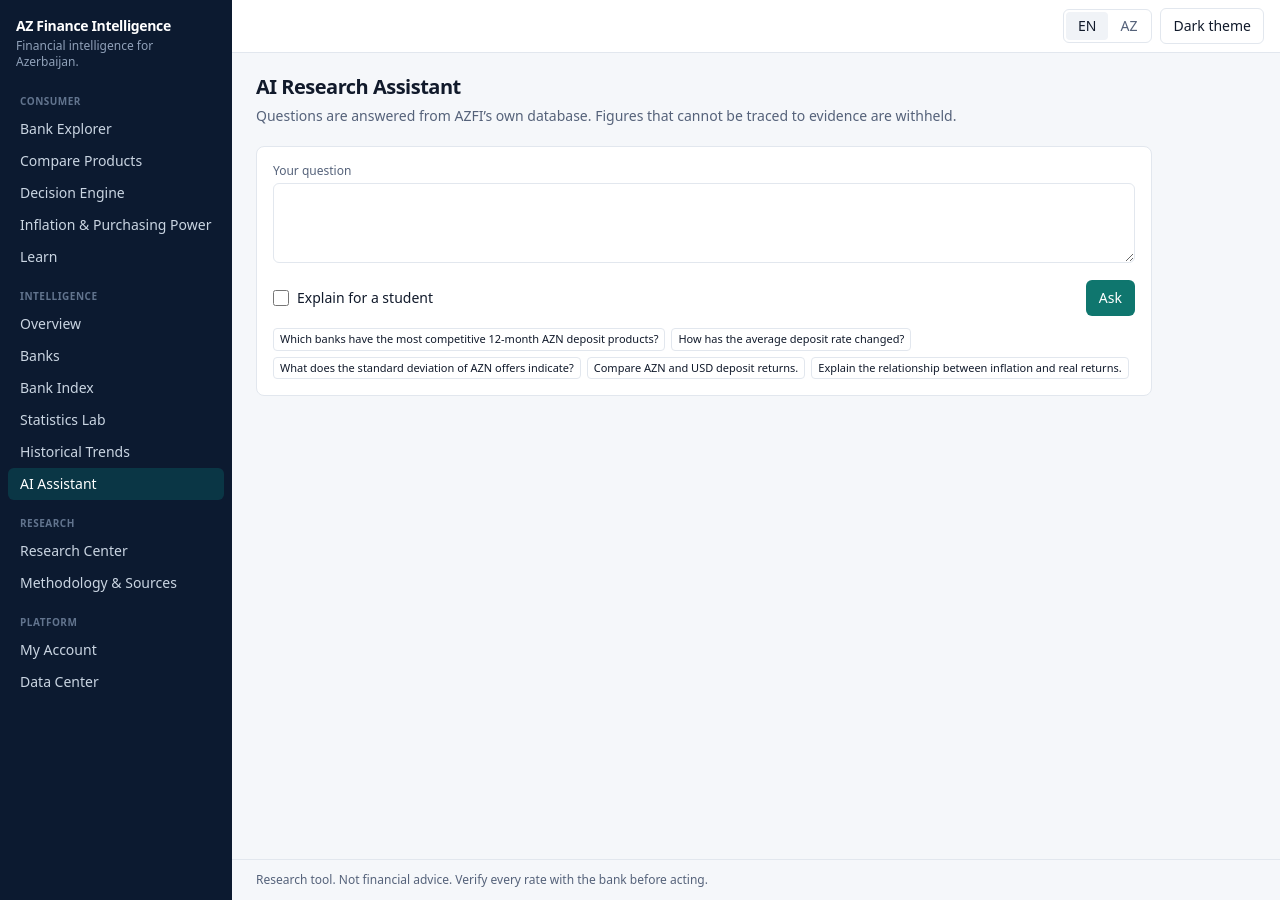
it: application flows › shows evidence from the assistant
Type "average rate?" into the text box labelled "Your question" at (704, 223), box [273,183,1135,263]
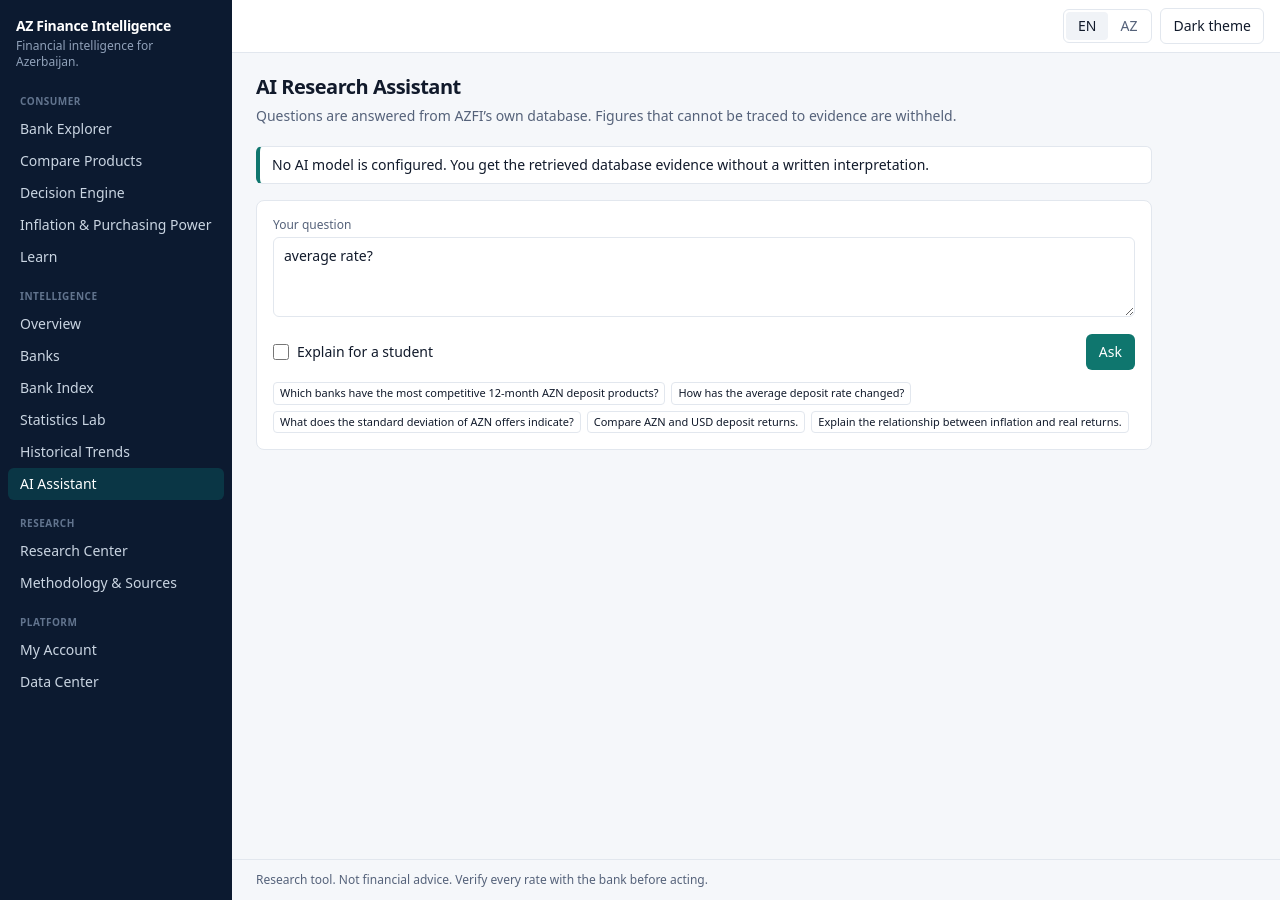
Click the button "Ask" at (1110, 352), box [1086,334,1135,370]
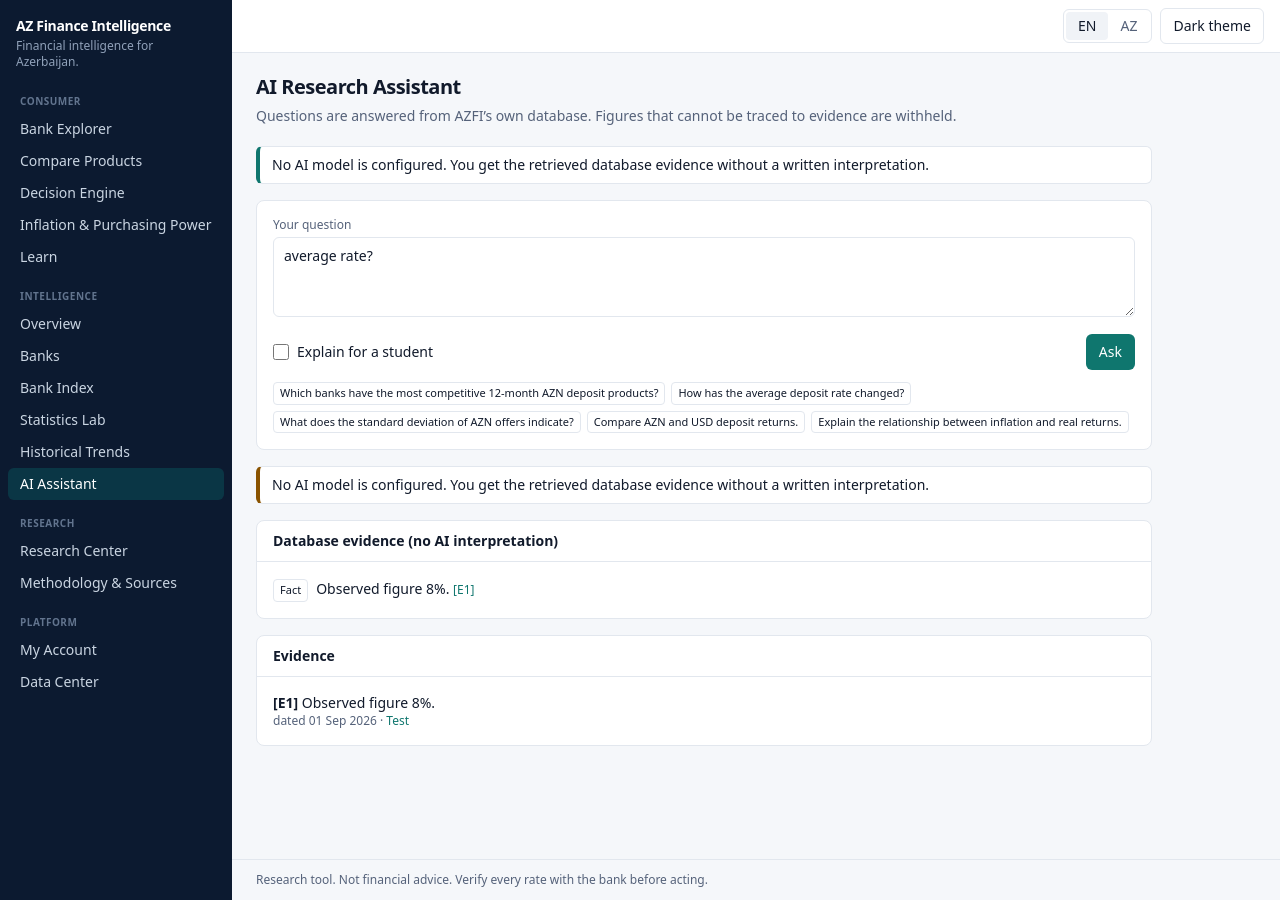
Check: the heading "Database evidence (no AI interpretation)" is shown, box [273,531,558,551]
